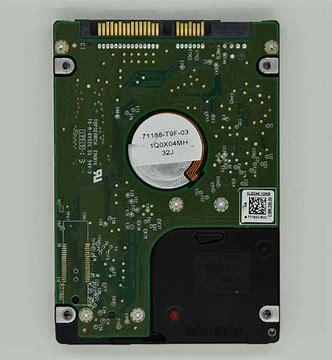internal HDD: (52, 15, 282, 348)
